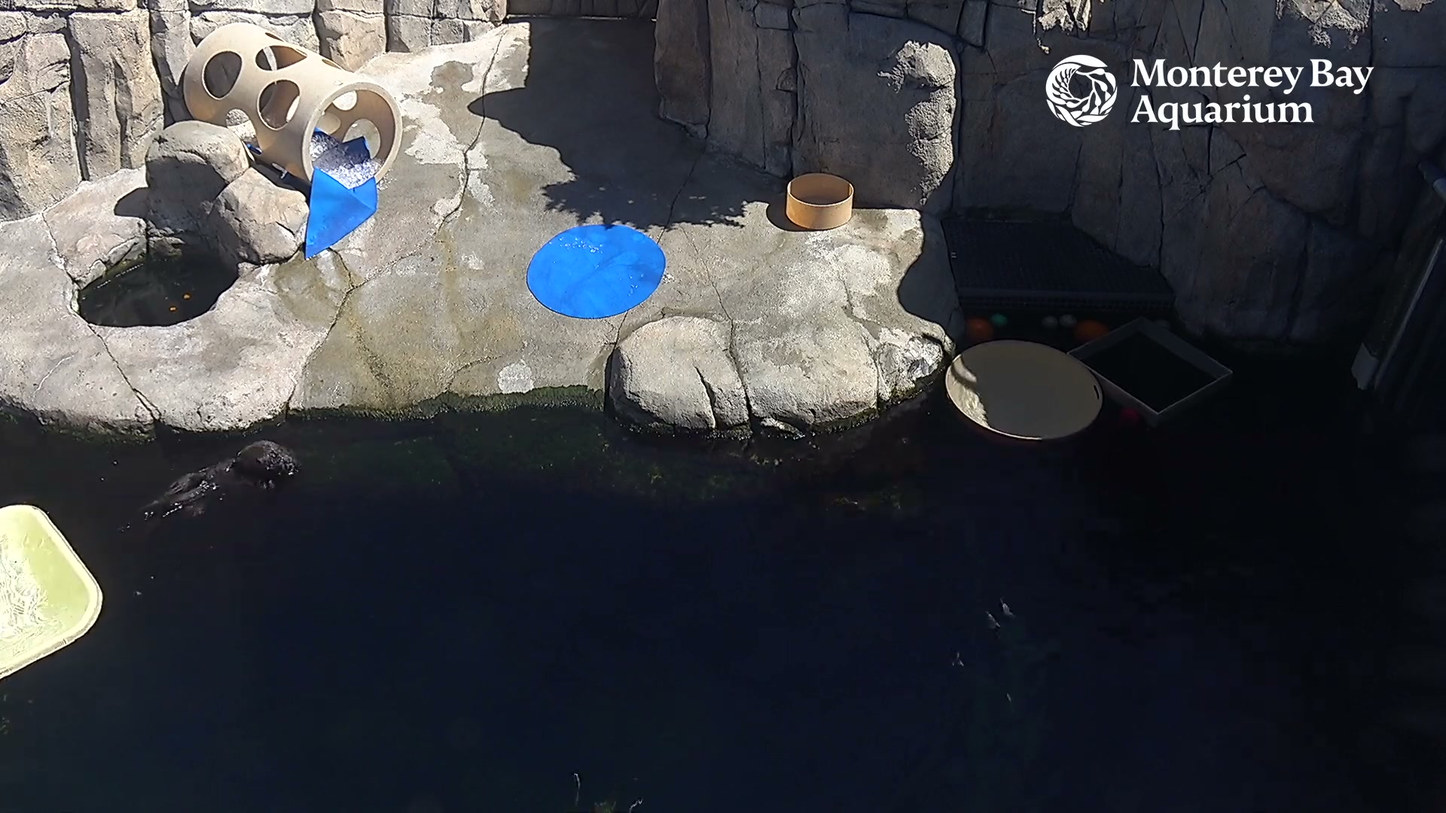Southern Sea Otter: (125, 414, 322, 564)
